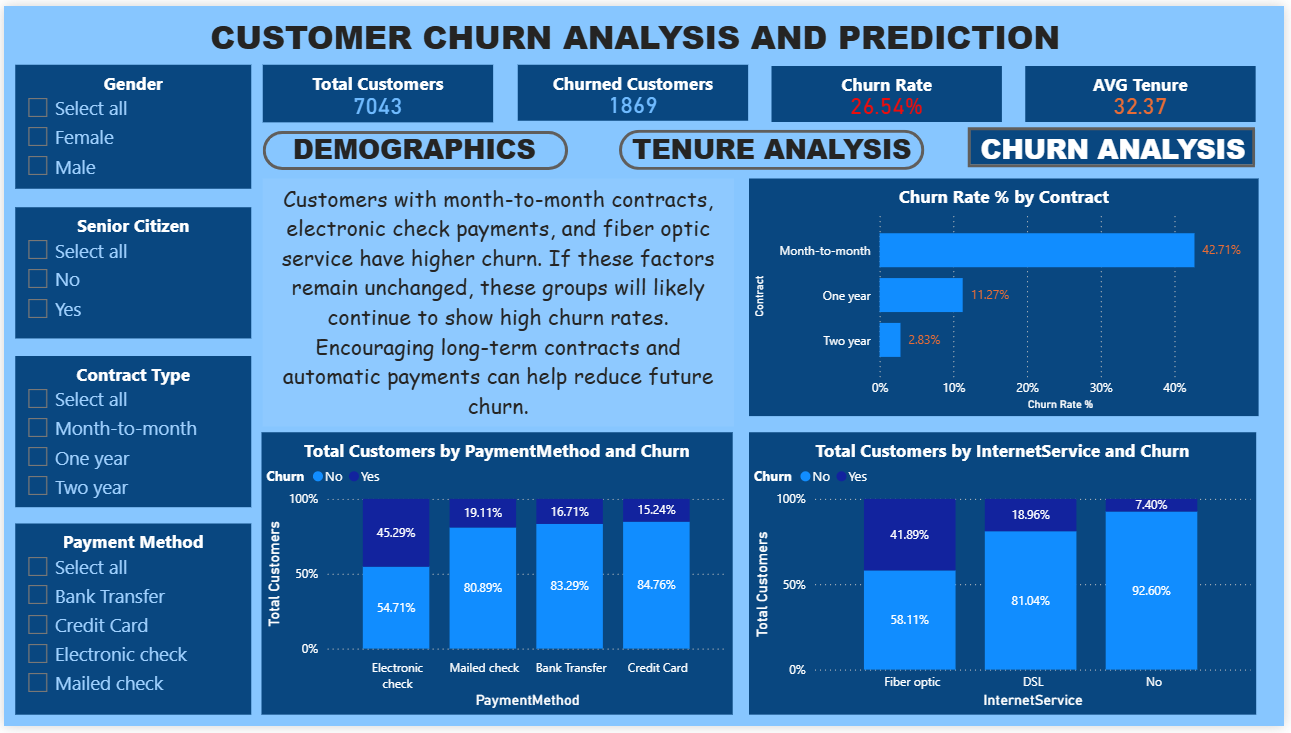

Layout of this report page (visuals, bound fields, positions):
{"tool":"powerbi","page":{"name":"Churn Analysis","canvas":[1280,720],"ordinal":2},"visuals":[{"type":"card","title":"Churn Rate","fields":{"Values":["Telco_Customer_Churn_Dataset.Churn Rate %"]},"box":[767.6,60.5,230.4,56.2],"z":0},{"type":"textbox","title":"CUSTOMER CHURN ANALYSIS AND PREDICTION","box":[11.5,7.2,1240,40.3],"z":1000},{"type":"card","title":"Total Customers","fields":{"Values":["Telco_Customer_Churn_Dataset.Total Customers"]},"box":[259.2,59,230.4,57.6],"z":2000},{"type":"card","title":"Churned Customers","fields":{"Values":["Telco_Customer_Churn_Dataset.Churned Customers"]},"box":[514.1,59,230.4,56.2],"z":3000},{"type":"card","title":"AVG Tenure","fields":{"Values":["Telco_Customer_Churn_Dataset.Avg Tenure (Months)"]},"box":[1021.1,60.5,230.4,56.2],"z":4000},{"type":"slicer","title":"Gender","fields":{"Values":["Telco_Customer_Churn_Dataset.gender"]},"box":[11.5,59,236.2,123.9],"z":5000},{"type":"slicer","title":"Senior Citizen","fields":{"Values":["Telco_Customer_Churn_Dataset.Senior Citizen Status"]},"box":[11.5,201.6,236.2,131.1],"z":6000},{"type":"slicer","title":"Contract Type","fields":{"Values":["Telco_Customer_Churn_Dataset.Contract"]},"box":[11.5,350,236.2,151.2],"z":7000},{"type":"textbox","title":"DEMOGRAPHICS","box":[257.8,123.9,305.3,34.6],"z":8000},{"type":"textbox","title":"TENURE ANALYSIS","box":[614.9,123.9,305.3,34.6],"z":9000},{"type":"textbox","title":"CHURN ANALYSIS","box":[966.3,123.9,285.1,34.6],"z":10000},{"type":"actionButton","box":[259.2,125.3,305.3,38.9],"z":11000},{"type":"slicer","title":"Payment Method","fields":{"Values":["Telco_Customer_Churn_Dataset.PaymentMethod"]},"box":[11.5,517,236.2,191.5],"z":12000},{"type":"actionButton","box":[614.9,123.9,305.3,40.3],"z":13000},{"type":"barChart","fields":{"Category":["Telco_Customer_Churn_Dataset.Contract"],"Y":["Telco_Customer_Churn_Dataset.Churn Rate %"]},"box":[744.6,172.8,509.8,237.6],"z":14000},{"type":"hundredPercentStackedColumnChart","fields":{"Category":["Telco_Customer_Churn_Dataset.PaymentMethod"],"Series":["Telco_Customer_Churn_Dataset.Churn"],"Y":["Telco_Customer_Churn_Dataset.Total Customers"]},"box":[257.8,426.3,470.9,282.3],"z":15000},{"type":"hundredPercentStackedColumnChart","fields":{"Series":["Telco_Customer_Churn_Dataset.Churn"],"Y":["Telco_Customer_Churn_Dataset.Total Customers"],"Category":["Telco_Customer_Churn_Dataset.InternetService"]},"box":[744.6,426.3,506.9,282.3],"z":16000},{"type":"actionButton","box":[963.8,121.2,287.5,40],"z":17000},{"type":"textbox","box":[259.2,172.8,470.9,247.7],"z":18000}]}

Visuals, with their boxes in screenshot pixels (x1, y1, x2, y2), scaled from the page's 1280x720 canvas onto the 1291x733 screenshot:
"Churn Rate" card: box=[774, 62, 1007, 119]
"CUSTOMER CHURN ANALYSIS AND PREDICTION" textbox: box=[12, 7, 1262, 48]
"Total Customers" card: box=[261, 60, 494, 119]
"Churned Customers" card: box=[519, 60, 751, 117]
"AVG Tenure" card: box=[1030, 62, 1262, 119]
"Gender" slicer: box=[12, 60, 250, 186]
"Senior Citizen" slicer: box=[12, 205, 250, 339]
"Contract Type" slicer: box=[12, 356, 250, 510]
"DEMOGRAPHICS" textbox: box=[260, 126, 568, 161]
"TENURE ANALYSIS" textbox: box=[620, 126, 928, 161]
"CHURN ANALYSIS" textbox: box=[975, 126, 1262, 161]
actionButton: box=[261, 128, 569, 167]
"Payment Method" slicer: box=[12, 526, 250, 721]
actionButton: box=[620, 126, 928, 167]
barChart - Telco_Customer_Churn_Dataset.Contract x Telco_Customer_Churn_Dataset.Churn Rate %: box=[751, 176, 1265, 418]
hundredPercentStackedColumnChart - Telco_Customer_Churn_Dataset.PaymentMethod x Telco_Customer_Churn_Dataset.Churn: box=[260, 434, 735, 721]
hundredPercentStackedColumnChart - Telco_Customer_Churn_Dataset.Churn x Telco_Customer_Churn_Dataset.Total Customers: box=[751, 434, 1262, 721]
actionButton: box=[972, 123, 1262, 164]
textbox: box=[261, 176, 736, 428]
